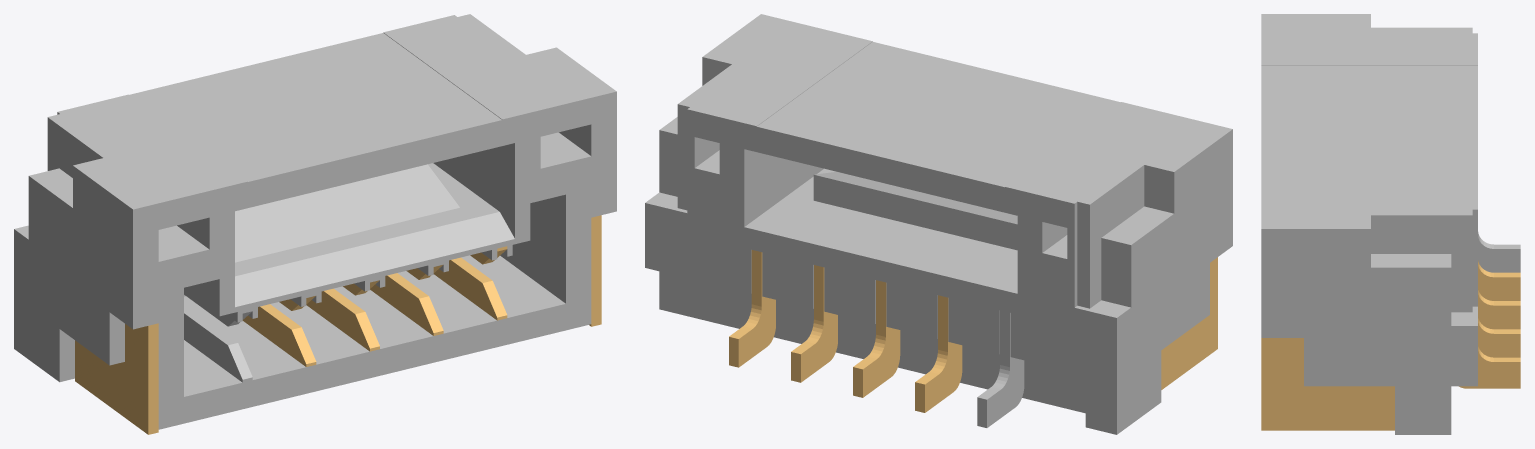
Rendered from SM05B-GHS-TB.obj.
The picture shows the model from 3 angles, left to right: view 1: azimuth 30°, elevation 25°; view 2: azimuth 150°, elevation 25°; view 3: azimuth 270°, elevation 25°; orthographic projection. The views are drawn at different scales.
Parts seen in each view (by area): view 1: SM05B-GHS-TB; view 2: SM05B-GHS-TB; view 3: SM05B-GHS-TB.
Part boxes in pixels (x1,y1,x2,y2): SM05B-GHS-TB: (14,14,616,434); SM05B-GHS-TB: (645,14,1232,434); SM05B-GHS-TB: (1261,14,1520,434).
Bounding box in the file's own units: 0.0131 × 0.00591 × 0.00667.
